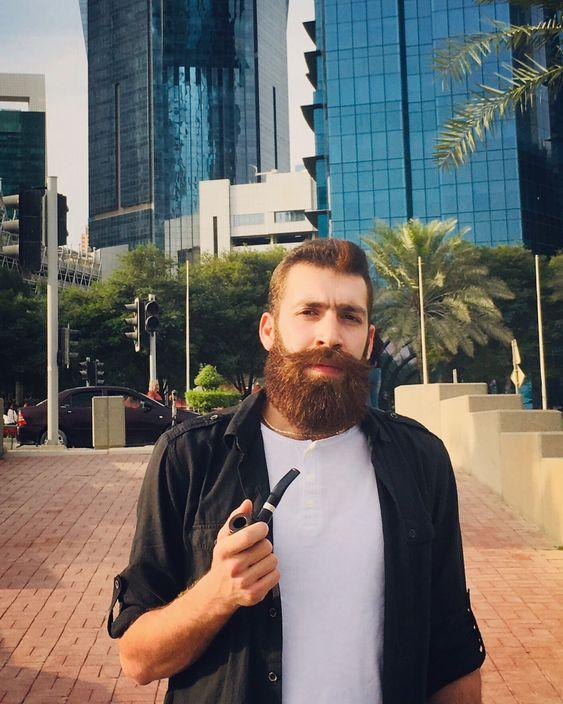trubka: (229, 468, 298, 532)
